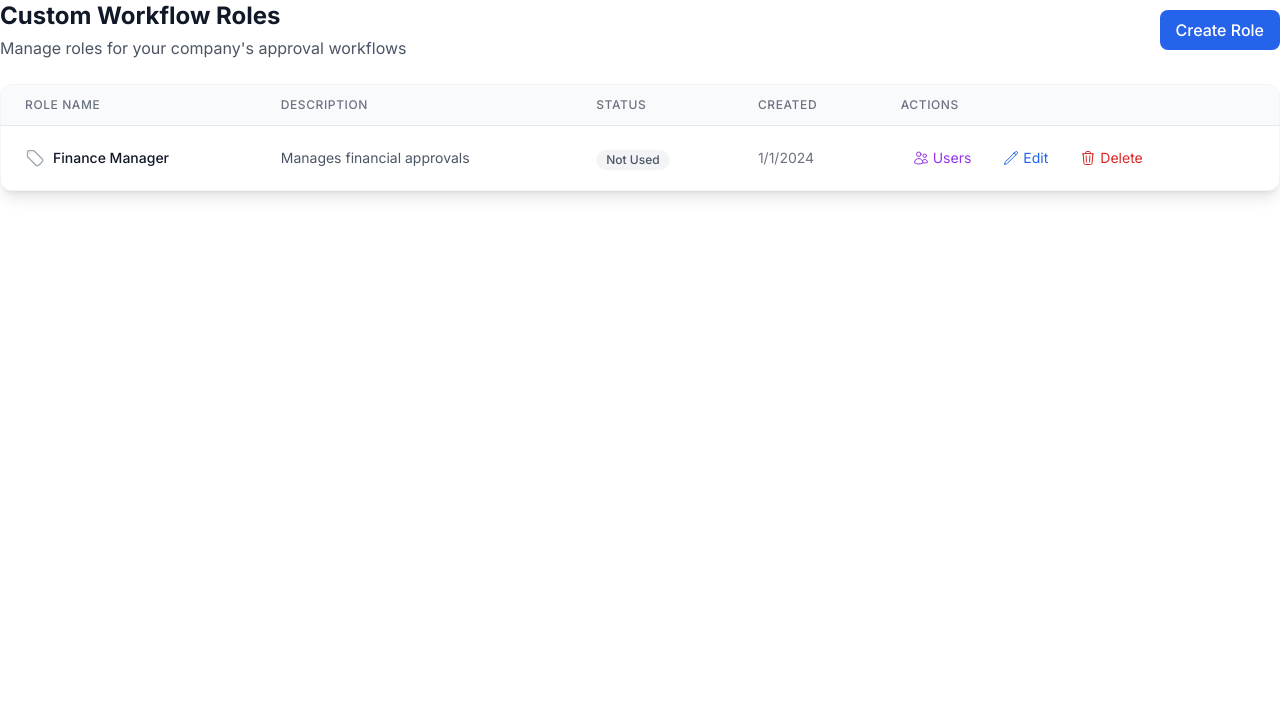
Test case: RoleManagement - User Assignment › should close modal when "Close" button is clicked
This screenshot has width=1280, height=720.
Expected: the text "Finance Manager" is shown, x1=53 y1=148 x2=169 y2=168
Click the button "Users": (942, 158) x1=901 y1=142 x2=983 y2=174
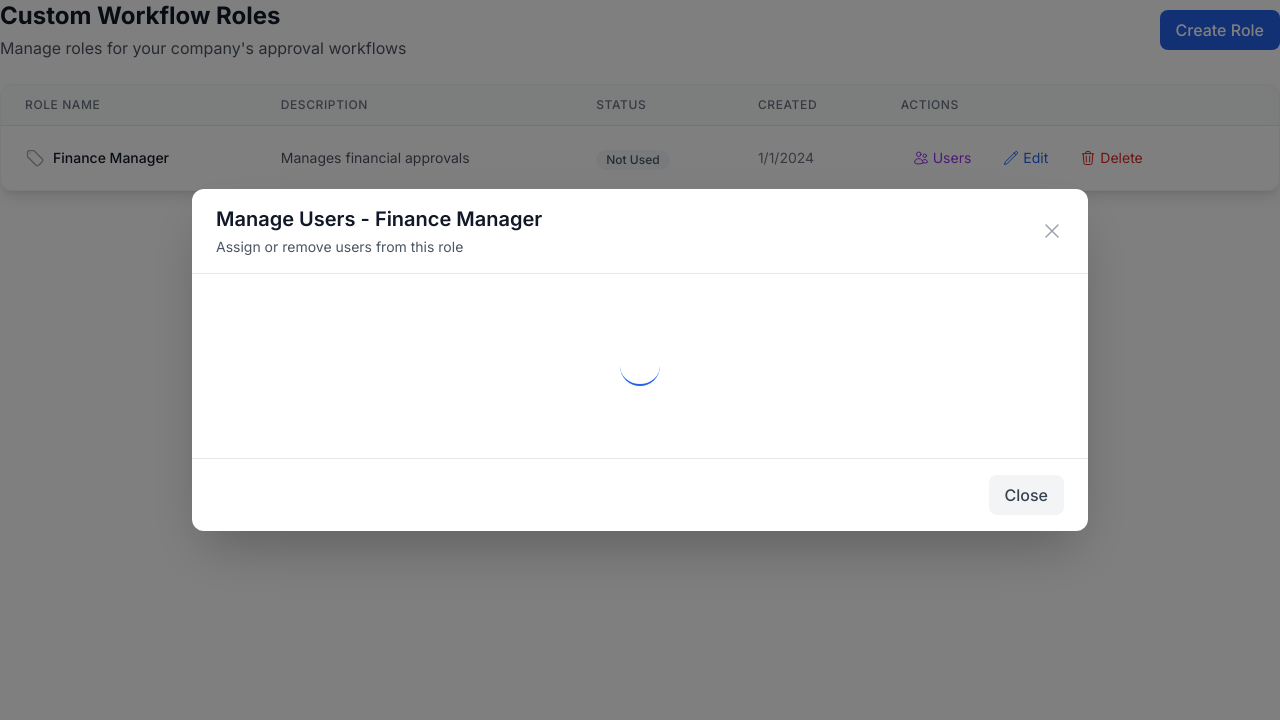
Result: the heading "Manage Users - Finance Manager" is shown at x1=216 y1=205 x2=542 y2=233
Click the button named "close": (1052, 231) x1=1040 y1=219 x2=1064 y2=243
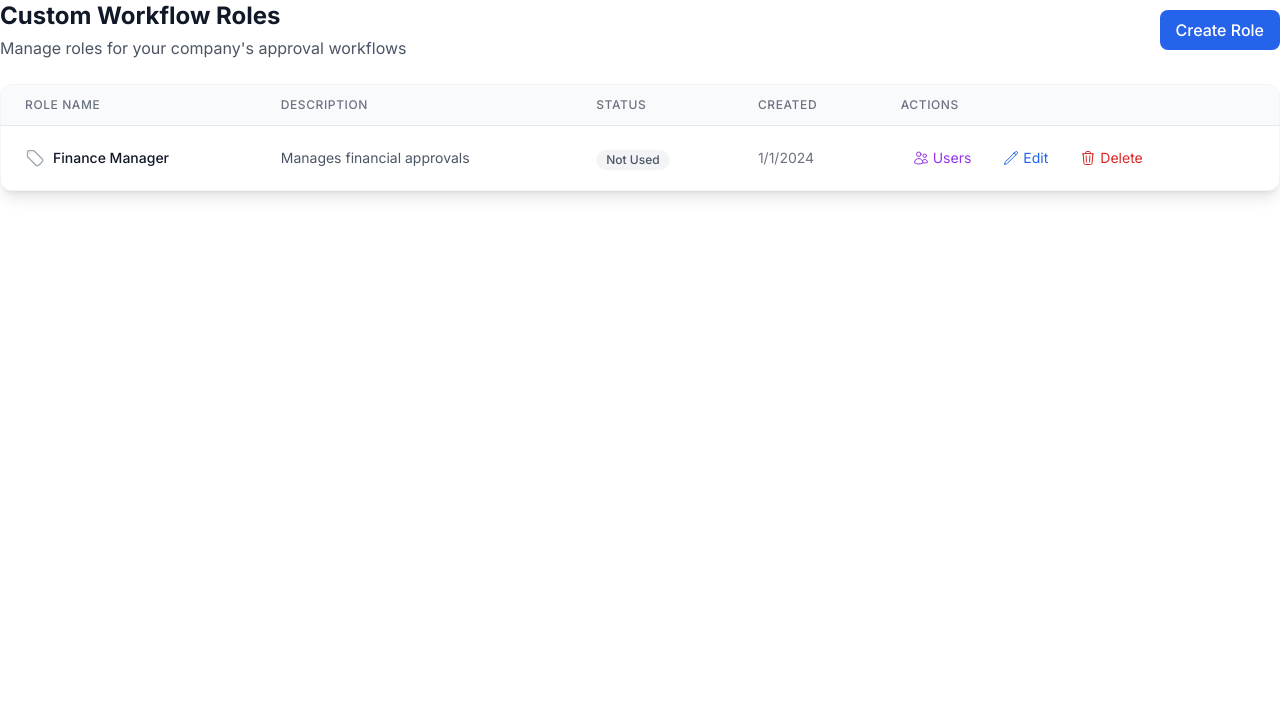
Result: the heading "Manage Users - Finance Manager" is gone
